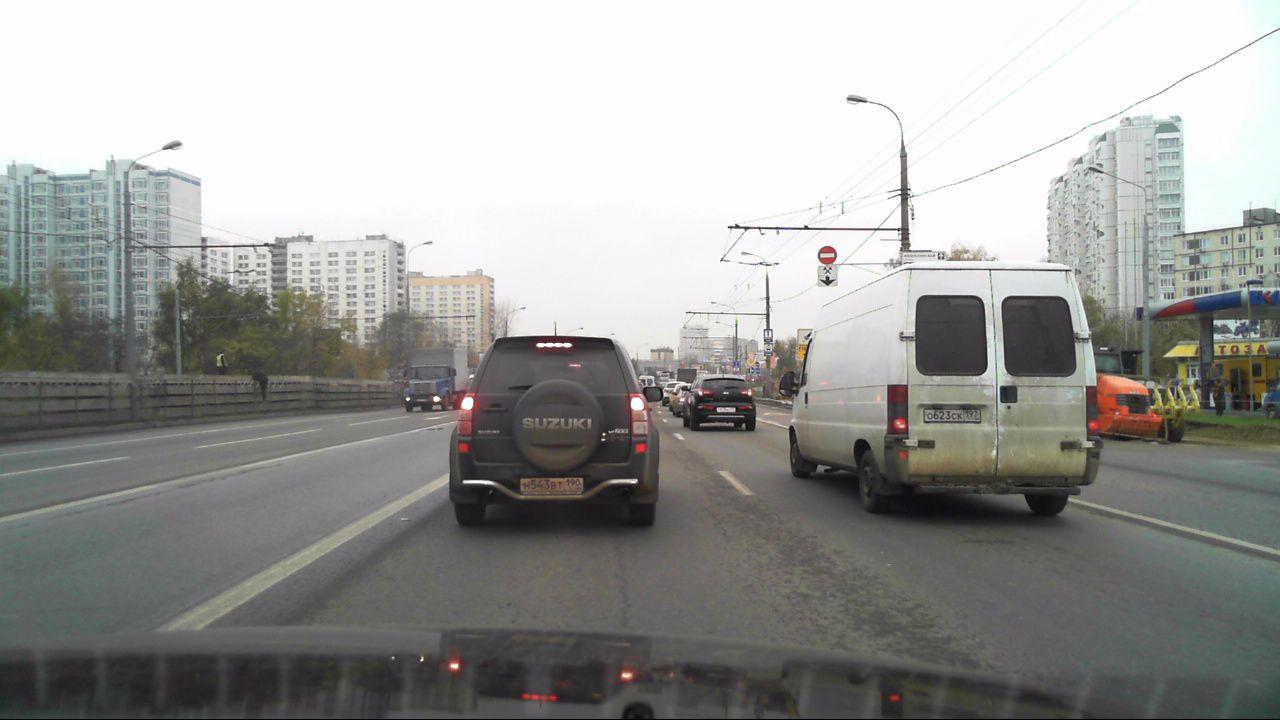road_sign: (817, 265, 838, 288), (818, 245, 836, 264)
